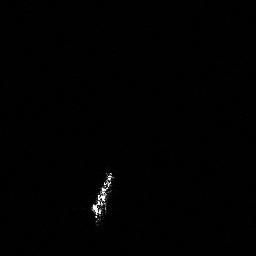ship: (88, 167, 117, 227)
